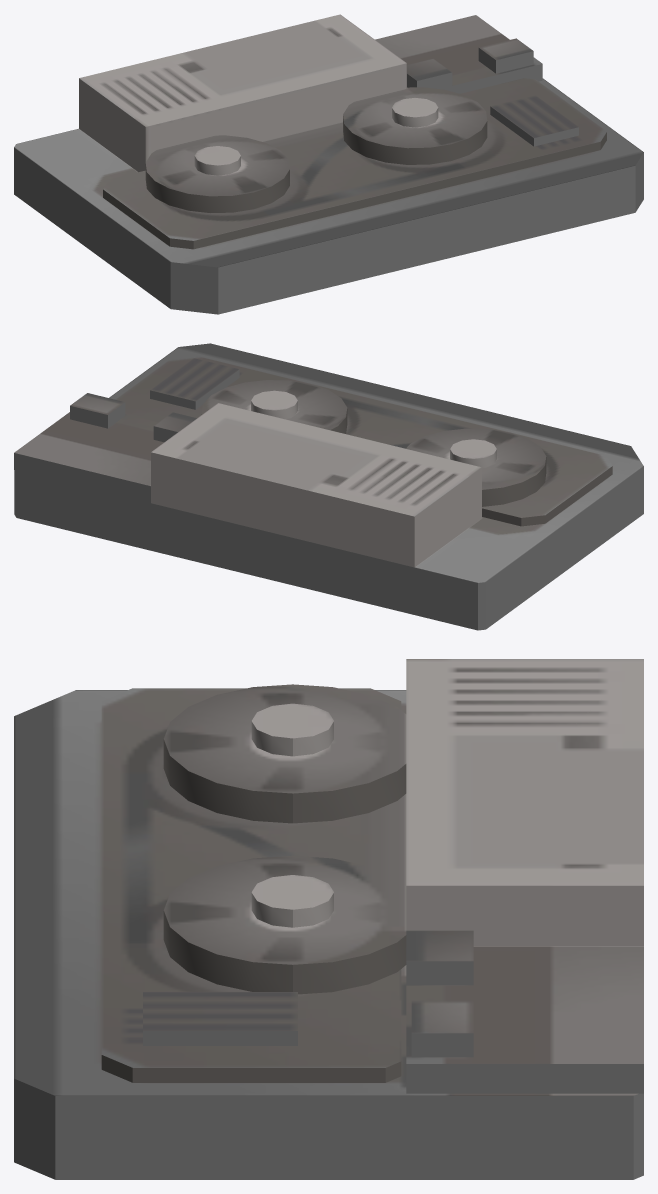
The model's file is Building_SubcoreEncoder.obj.
The picture shows the model from 3 angles, top to bottom: view 1: azimuth 30°, elevation 25°; view 2: azimuth 150°, elevation 25°; view 3: azimuth 270°, elevation 25°; orthographic projection. The views are drawn at different scales.
Visible parts, largest first — view 1: Body; view 2: Body; view 3: Body.
Part boxes in pixels (x1,y1,x2,y2): Body: [14, 14, 643, 314]; Body: [14, 343, 643, 630]; Body: [14, 659, 643, 1179].
Bounding box in the file's own units: 2.91 × 0.58 × 1.91.
1 material, 1 textured.
